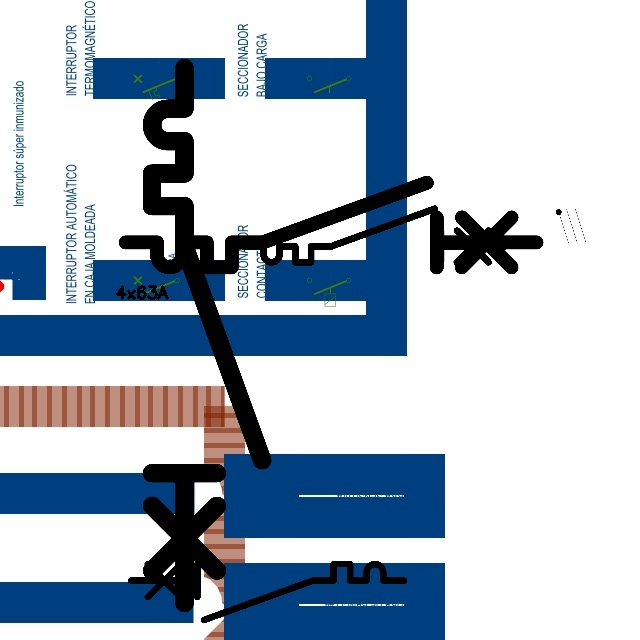interruptor_termomagnetico: (138, 54, 276, 617), (115, 172, 547, 278), (124, 557, 411, 627), (237, 202, 511, 269)
